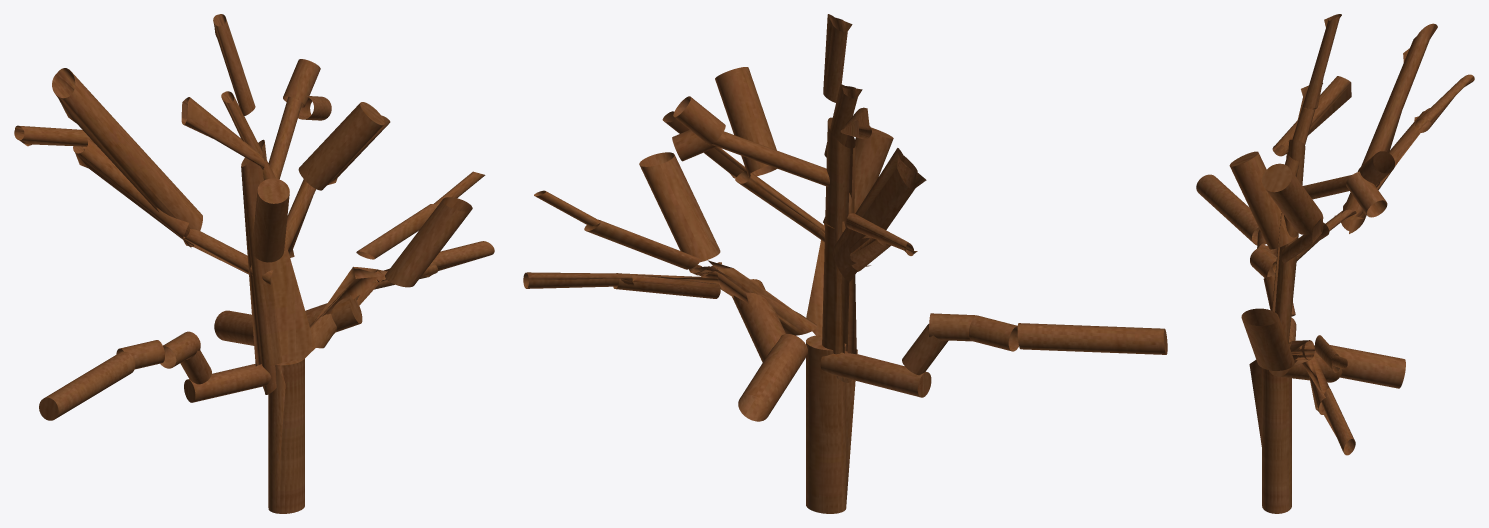
The model's file is tree.obj.
3 views of the same model, side by side, from view 1: azimuth 30°, elevation 25°; view 2: azimuth 150°, elevation 25°; view 3: azimuth 270°, elevation 25° (orthographic). The views are drawn at different scales.
Parts seen in each view (by area): view 1: Mesh9 Model, Mesh4 Model, Mesh1 Model, Mesh3 Model, Mesh21 Model, Mesh20 Model, Mesh16 Model, Mesh10 Model, Mesh12 Model, Mesh2 Model, Mesh7 Model, Mesh24 Model (+11 smaller); view 2: Mesh3 Model, Mesh1 Model, Mesh16 Model, Mesh9 Model, Mesh21 Model, Mesh23 Model, Mesh12 Model, Mesh2 Model, Mesh4 Model, Mesh17 Model, Mesh20 Model, Mesh22 Model (+11 smaller); view 3: Mesh3 Model, Mesh1 Model, Mesh9 Model, Mesh20 Model, Mesh21 Model, Mesh23 Model, Mesh16 Model, Mesh7 Model, Mesh24 Model, Mesh18 Model, Mesh11 Model, Mesh19 Model (+7 smaller).
Part boxes in pixels (x1,y1,x2,y2): Mesh9 Model: (52,68,273,284); Mesh4 Model: (241,151,315,394); Mesh1 Model: (309,197,494,348); Mesh3 Model: (241,139,304,513); Mesh21 Model: (298,102,384,190); Mesh20 Model: (252,178,289,262); Mesh16 Model: (39,351,135,420); Mesh10 Model: (73,138,188,239); Mesh12 Model: (184,363,271,402); Mesh2 Model: (356,171,485,259); Mesh7 Model: (181,97,264,170); Mesh24 Model: (213,14,255,116); Mesh3 Model: (806,117,857,513); Mesh1 Model: (523,152,817,335); Mesh16 Model: (1017,323,1167,354); Mesh9 Model: (832,148,926,281); Mesh21 Model: (715,67,776,176); Mesh23 Model: (738,334,807,421); Mesh12 Model: (820,351,931,397); Mesh2 Model: (534,190,700,269); Mesh4 Model: (806,135,856,382); Mesh17 Model: (705,131,829,186); Mesh20 Model: (823,127,893,231); Mesh22 Model: (732,279,785,362); Mesh3 Model: (1249,139,1305,513); Mesh1 Model: (1241,308,1355,455); Mesh9 Model: (1272,23,1437,273); Mesh20 Model: (1229,151,1297,249); Mesh21 Model: (1262,163,1323,234); Mesh23 Model: (1314,345,1405,388); Mesh16 Model: (1196,174,1266,245); Mesh7 Model: (1272,76,1351,156); Mesh24 Model: (1302,14,1341,109); Mesh18 Model: (1346,171,1387,217); Mesh11 Model: (1415,74,1474,132); Mesh19 Model: (1357,151,1394,185).
Size of the model in its own units: 97.11 by 85.41 by 45.49.
1 material, 1 textured.
